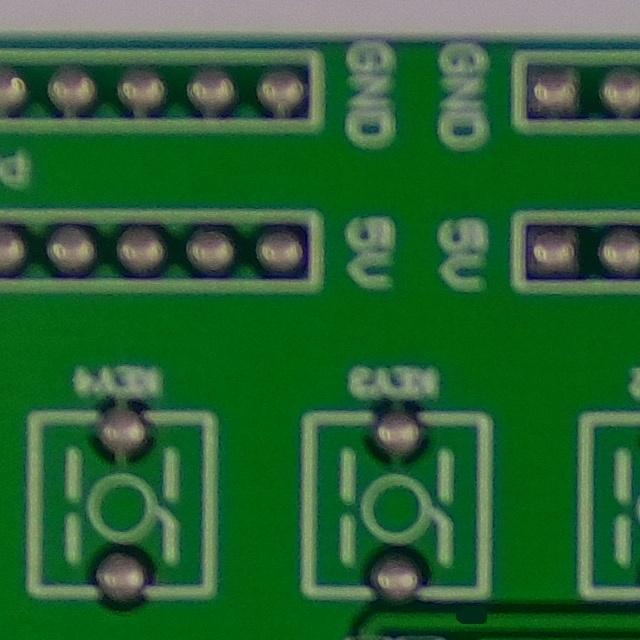mouse_bite: (434, 595, 506, 640)
